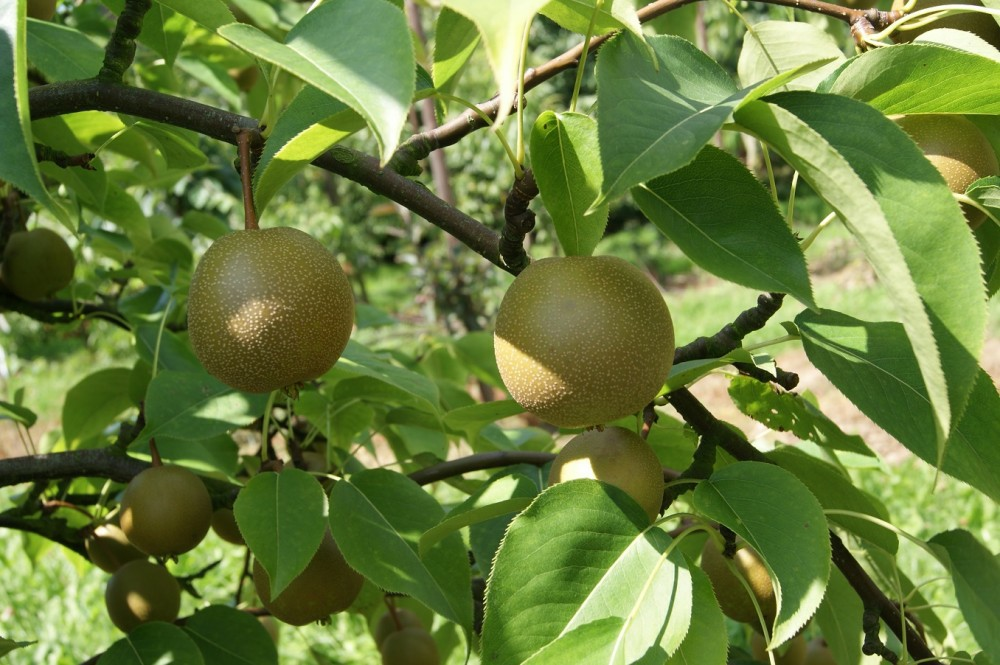pear: (493, 256, 674, 425), (188, 227, 351, 385), (888, 110, 994, 231), (546, 431, 664, 531), (253, 516, 360, 624), (121, 466, 213, 556), (697, 546, 783, 632), (106, 561, 183, 636), (8, 229, 73, 301), (386, 624, 447, 665)
